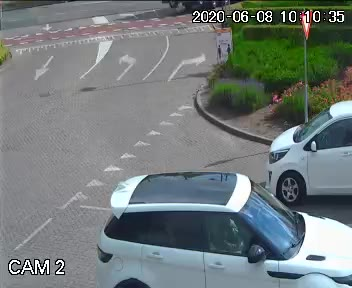car: (88, 170, 352, 288), (261, 86, 352, 205)
